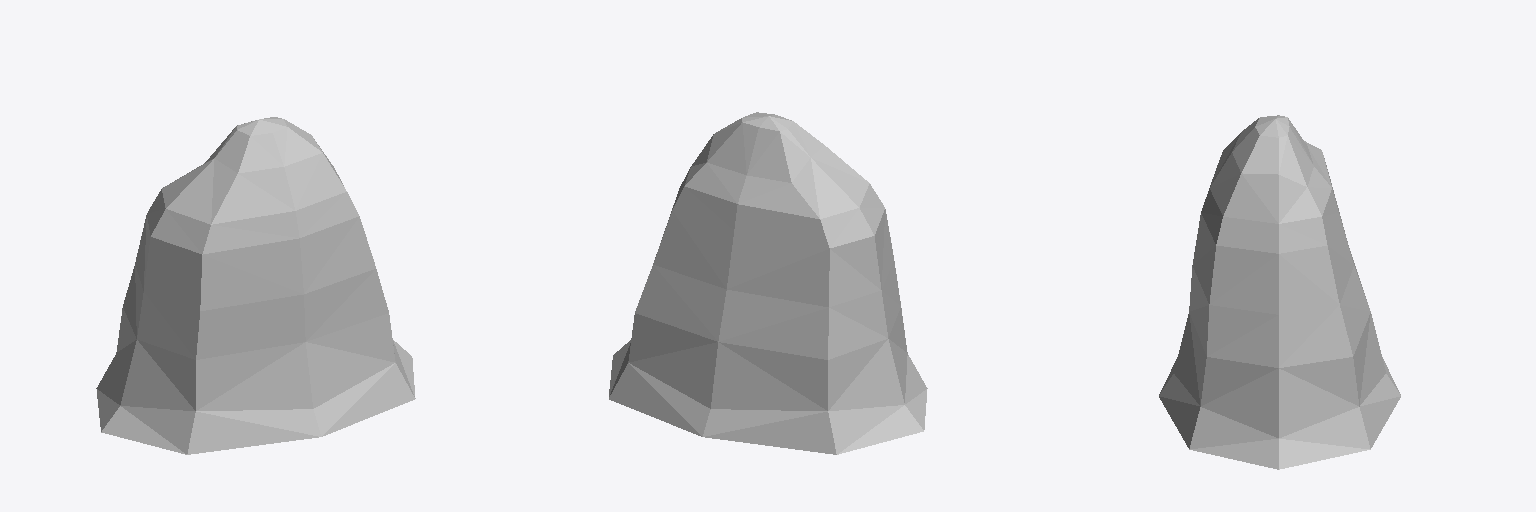
The model's file is DS_Stone.obj.
The picture shows the model from 3 angles: view 1: azimuth 30°, elevation 25°; view 2: azimuth 150°, elevation 25°; view 3: azimuth 270°, elevation 25°; orthographic projection.
Parts seen in each view (by area): view 1: default; view 2: default; view 3: default.
Boxes of the visible parts, box(x1,y1,x2,y2) form: default: box(96, 117, 415, 454); default: box(609, 112, 927, 454); default: box(1159, 115, 1400, 469).
Bounding box in the file's own units: 8.17 × 6.91 × 5.52.